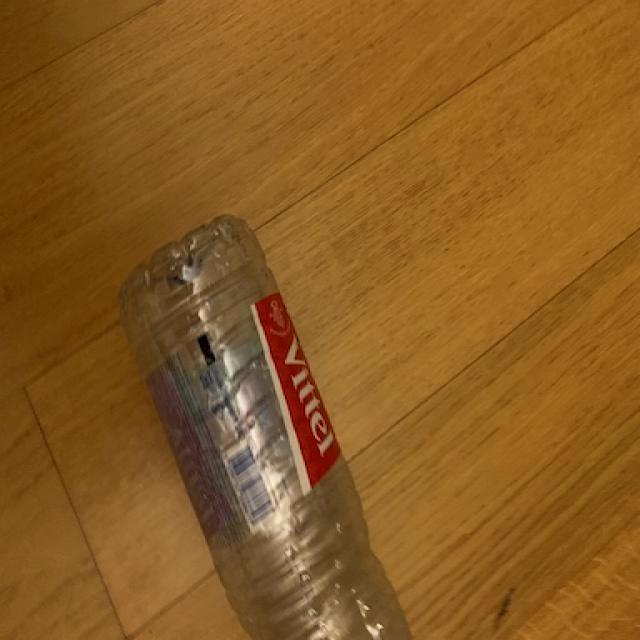bottle: (116, 213, 414, 640)
